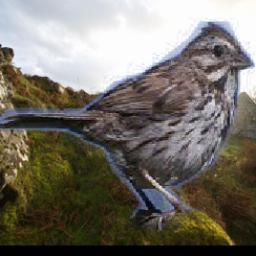Sparrow: (0, 17, 256, 231)
